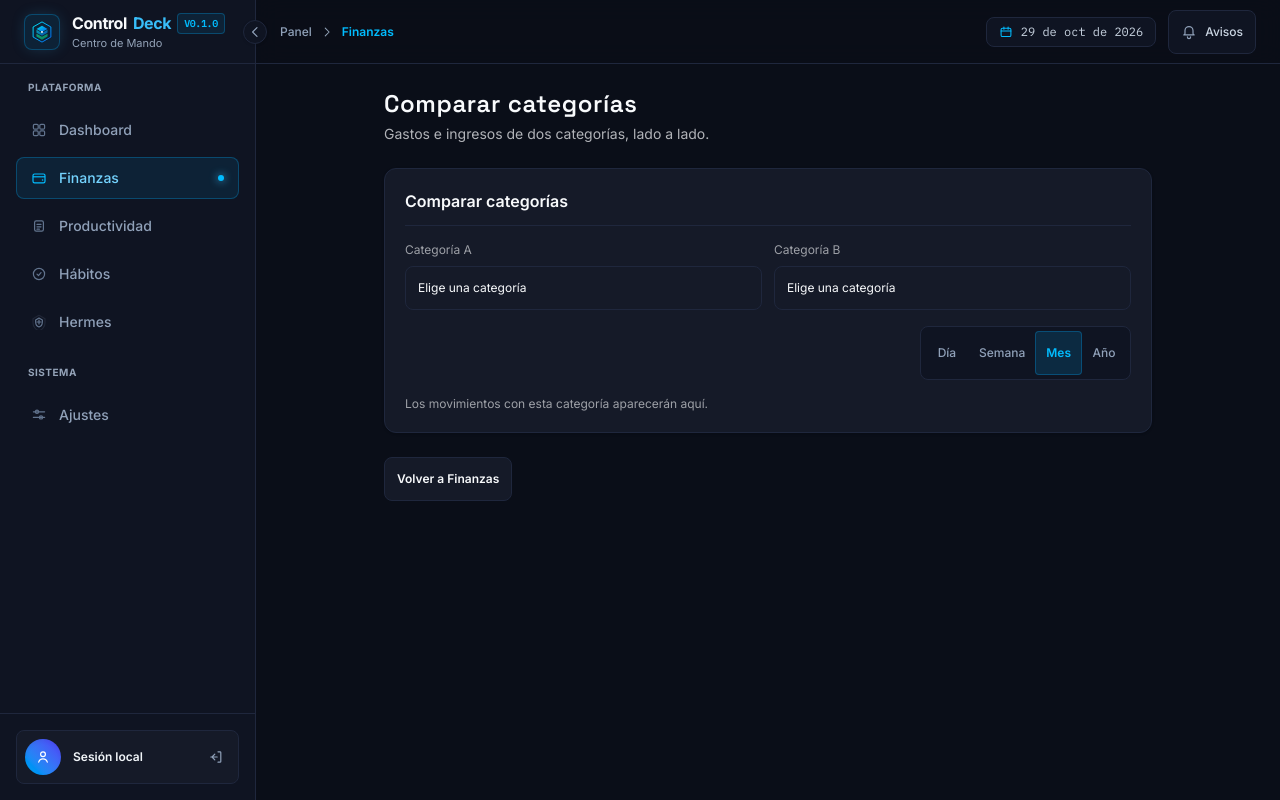
Test: compare page (movement split) › renders one four-line chart labeling expense and income of both categories
Select "Comida" in the dropdown labelled "Categoría A" at {"x": 584, "y": 288}, box [405,266,762,310]
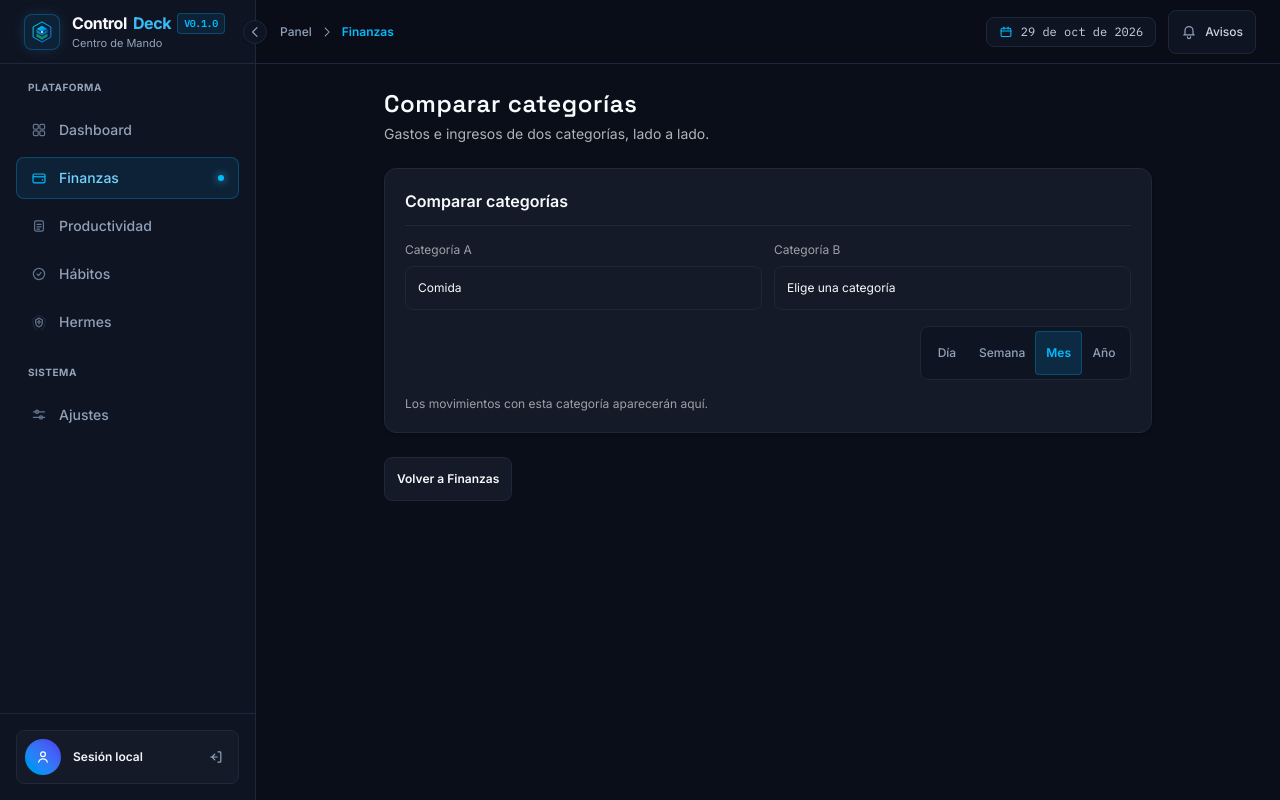
Select "Sueldo" in the dropdown labelled "Categoría B" at {"x": 952, "y": 288}, box [774,266,1131,310]
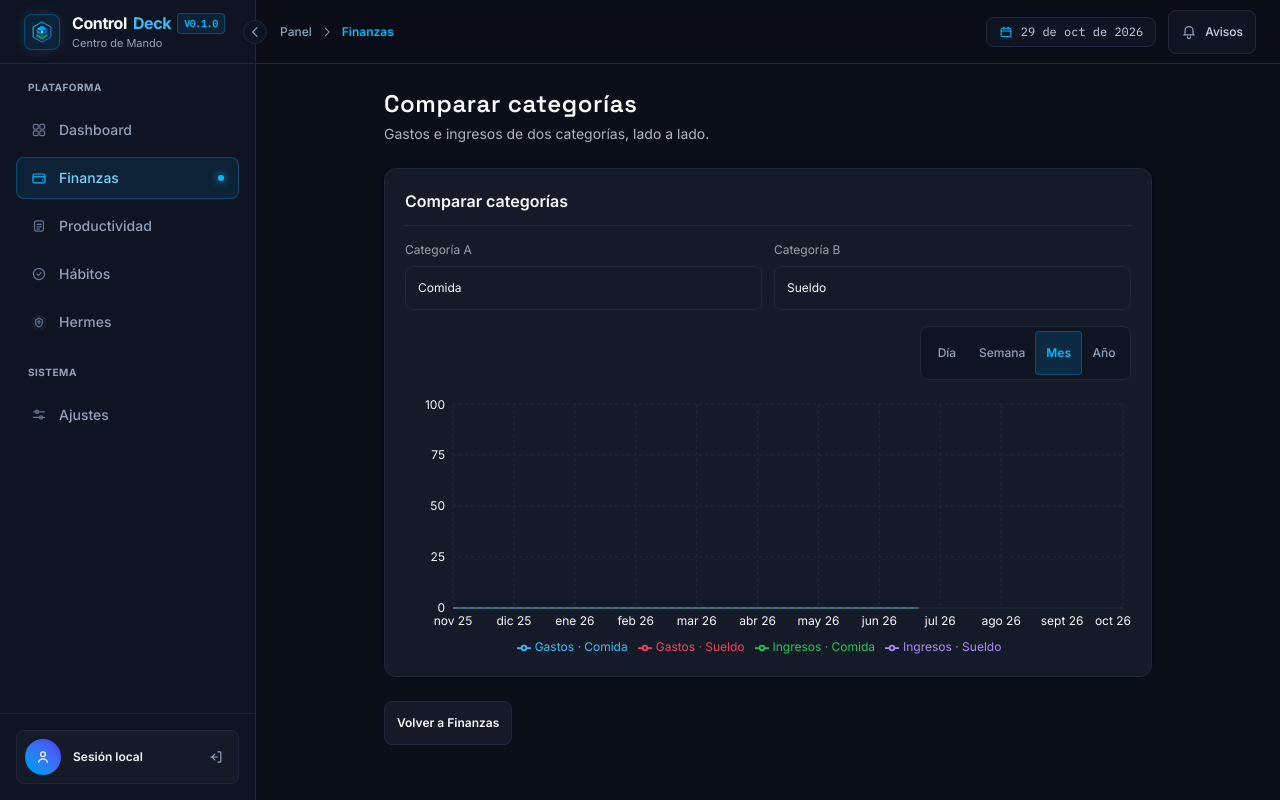
Check: the picture named "Tendencia de gastos e ingresos" is shown, box [405,396,1131,656]
Check: the number of list items is 4, box [517,638,628,656]; [638,638,744,656]; [754,638,875,656]; [885,638,1001,656]
Check: the text "Gastos · Comida" is shown, box [535,639,628,654]
